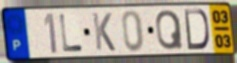0: (120, 8, 146, 54)
1: (43, 12, 58, 55)
D: (182, 8, 211, 51)
K: (91, 12, 118, 53)
L: (58, 13, 85, 54)
Q: (155, 9, 185, 52)
